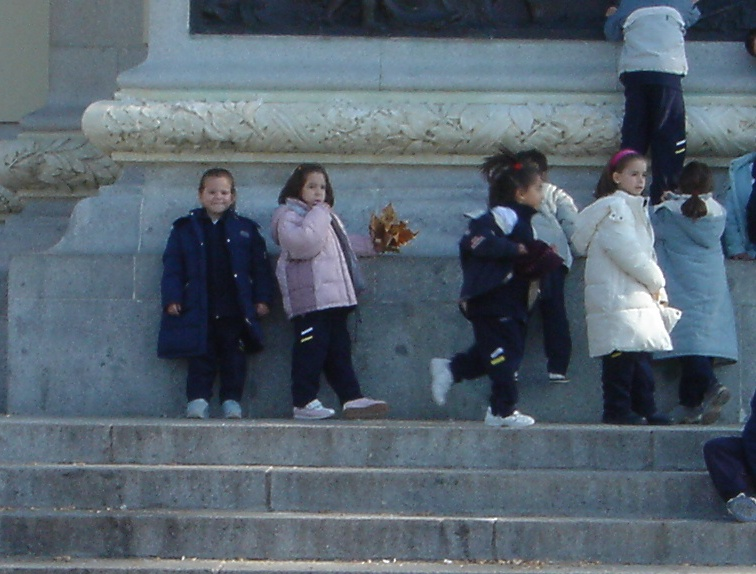person: (458, 155, 543, 428), (170, 163, 260, 420), (279, 157, 365, 418), (590, 146, 670, 426)
